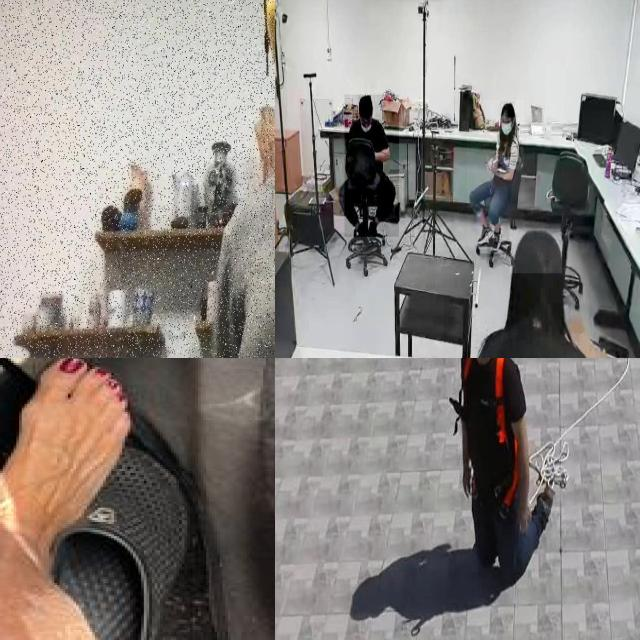Barefoots: (0, 358, 133, 570)
Harness: (493, 358, 523, 509)
face_mask: (500, 118, 514, 142)
hand_noglove: (486, 156, 494, 173)
head_nohelmet: (510, 229, 562, 274), (500, 100, 516, 118), (358, 94, 372, 110)
person: (444, 215, 631, 358), (467, 100, 525, 246), (344, 95, 400, 238)
shoes: (475, 222, 495, 248)
